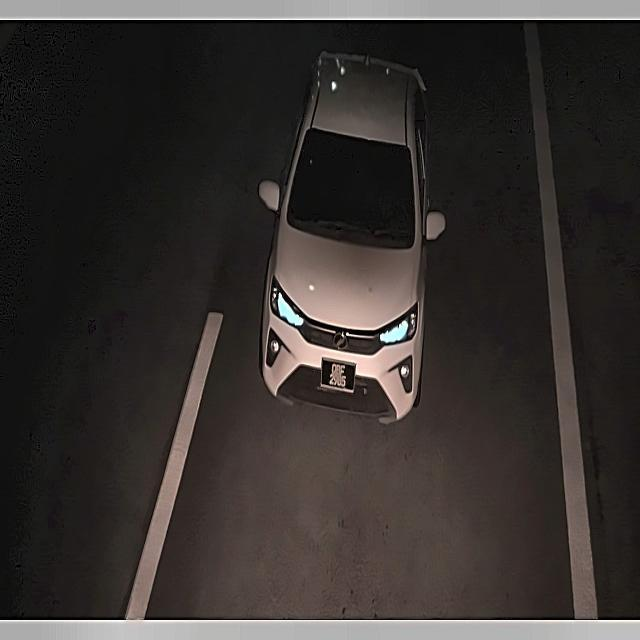car: (317, 351, 360, 399)
